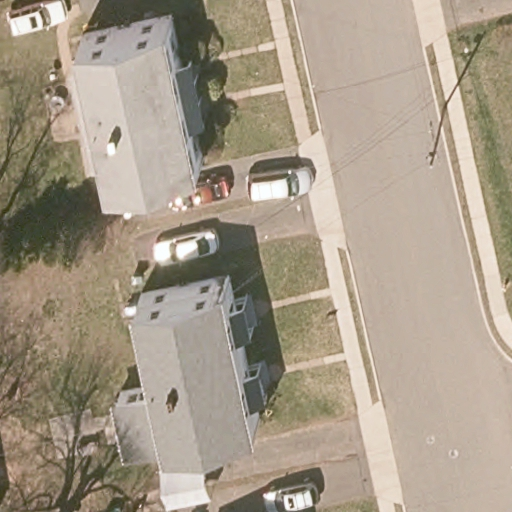DT: (424, 100, 447, 170)
